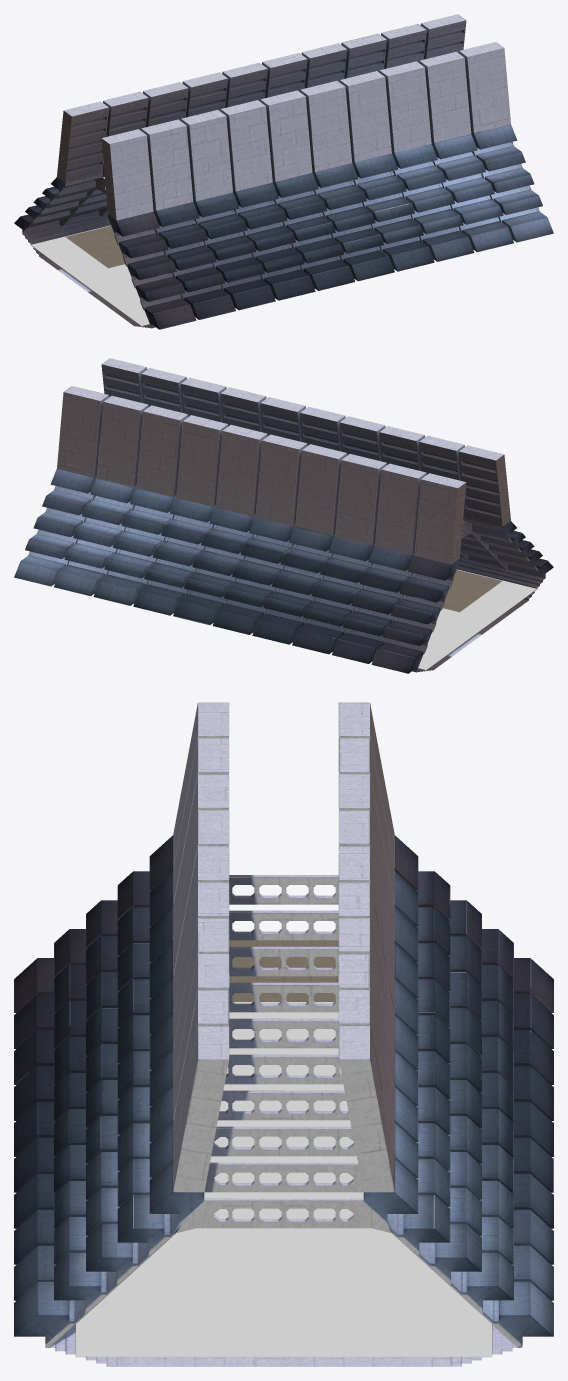
Rendered from Brutalist.fbx.
3 renders of one model, top to bottom at view 1: azimuth 30°, elevation 25°; view 2: azimuth 150°, elevation 25°; view 3: azimuth 270°, elevation 25°, orthographic. The views are drawn at different scales.
Parts seen in each view (by area): view 1: Cube_0, Plane001_2, Plane_1; view 2: Cube_0, Plane001_2, Plane_1; view 3: Cube_0, Plane001_2, Plane_1.
Part boxes in pixels (bbox=[...]): Cube_0: bbox=[14, 14, 553, 329]; Plane001_2: bbox=[31, 225, 149, 326]; Plane_1: bbox=[66, 226, 124, 268]; Cube_0: bbox=[14, 358, 553, 673]; Plane001_2: bbox=[418, 569, 536, 670]; Plane_1: bbox=[443, 570, 501, 612]; Cube_0: bbox=[14, 702, 553, 1366]; Plane001_2: bbox=[75, 1002, 492, 1356]; Plane_1: bbox=[229, 940, 338, 1001].
Size of the model in its own units: 1070 by 422 by 679.
Materials: 3 (2 with a texture image).
